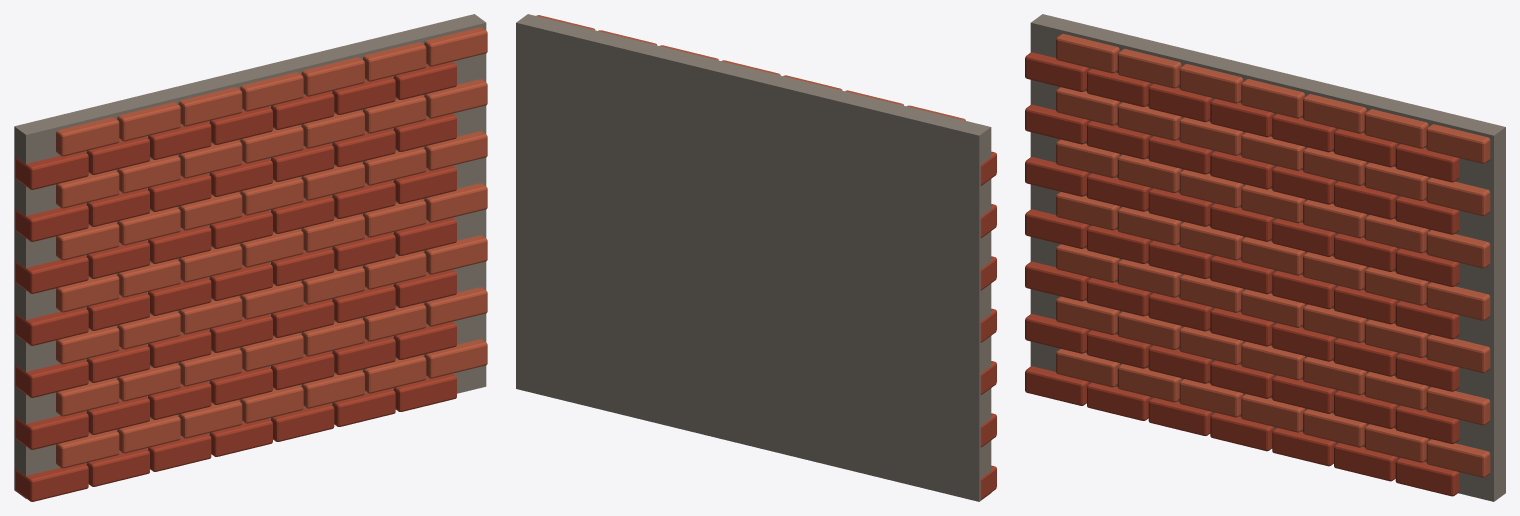
Rendered from BrickWall.fbx.
3 views of the same model, side by side, from view 1: azimuth 30°, elevation 25°; view 2: azimuth 150°, elevation 25°; view 3: azimuth 330°, elevation 25° (orthographic).
Parts seen in each view (by area): view 1: BrickWall_Bricks, BrickWall_Mortar; view 2: BrickWall_Mortar, BrickWall_Bricks; view 3: BrickWall_Bricks, BrickWall_Mortar.
Part boxes in pixels (<box>): BrickWall_Bricks: <box>15,27,487,501</box>; BrickWall_Mortar: <box>14,14,486,498</box>; BrickWall_Mortar: <box>516,14,991,501</box>; BrickWall_Bricks: <box>536,15,996,499</box>; BrickWall_Bricks: <box>1025,33,1490,496</box>; BrickWall_Mortar: <box>1030,14,1505,501</box>.
Size of the model in its own units: 3.16 by 2.38 by 0.21.
